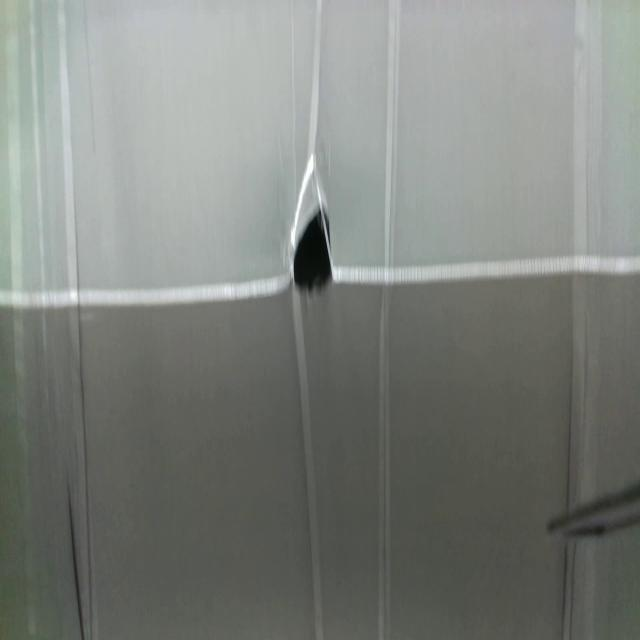crease: (4, 0, 100, 637), (565, 0, 605, 501), (376, 1, 403, 640), (292, 294, 326, 638), (558, 541, 598, 640), (307, 1, 323, 162), (290, 2, 298, 206)
hole: (293, 205, 333, 297)
